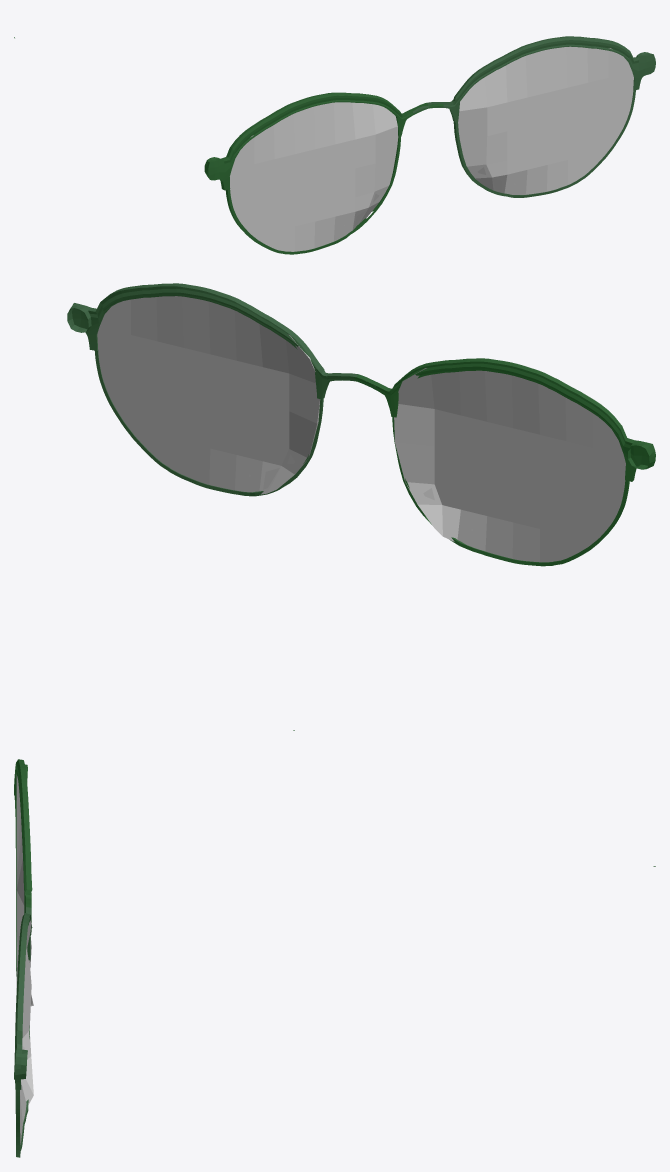
Rendered from 1-Green-less.glb.
3 renders of one model, top to bottom at view 1: azimuth 30°, elevation 25°; view 2: azimuth 150°, elevation 25°; view 3: azimuth 270°, elevation 25°, orthographic. The views are drawn at different scales.
Visible parts, largest first — view 1: Lens, FrameFront; view 2: Lens, FrameFront; view 3: FrameFront, Lens.
Boxes of the visible parts, x1,y1,x2,y2 form: Lens: [230, 46, 633, 251]; FrameFront: [14, 36, 655, 254]; Lens: [97, 296, 625, 562]; FrameFront: [67, 283, 655, 730]; FrameFront: [14, 759, 655, 1157]; Lens: [16, 775, 33, 1144].
Bounding box in the file's own units: 2.2 × 0.7174 × 2.01.
